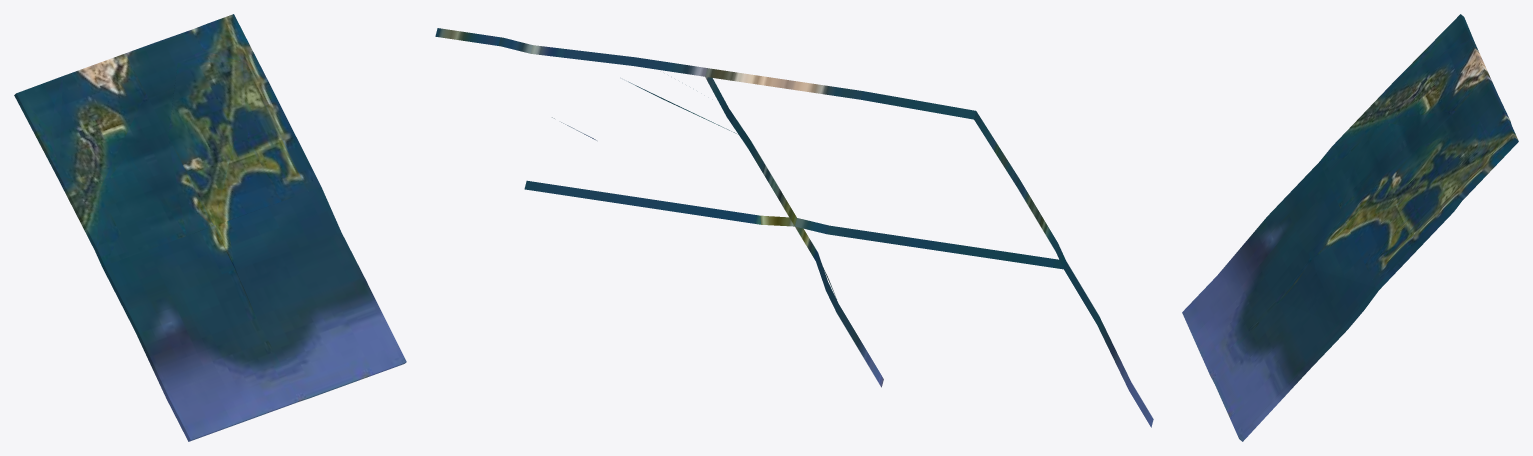
The model's file is AJVsH2yAmR5riCFudWiut3kpPaXyZXOO1igOv8K5fehjsWAiBXarIqKjqofQerKjLs8dGqT6S5pwG0Ww4LhMpl30TvO2ftaevRQZdIO7gAiZw2NrMS2iJb5J90E-9O5t-TWPcCIrs9pyiYEfTZkQElgKEzjy.glb.
3 renders of one model, left to right at view 1: azimuth 30°, elevation 25°; view 2: azimuth 150°, elevation 25°; view 3: azimuth 270°, elevation 25°, orthographic. The views are drawn at different scales.
Size of the model in its own units: 4116 by 3650 by 3959.
1 material, 1 textured.
